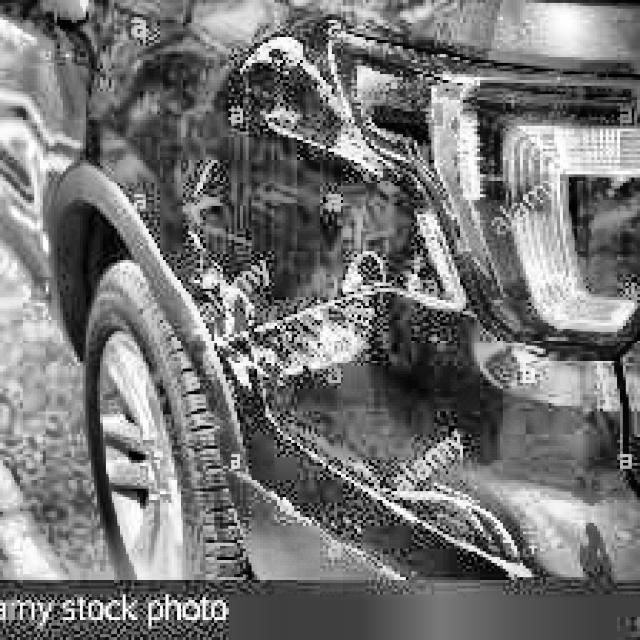tail_lamp: (382, 65, 503, 254)
